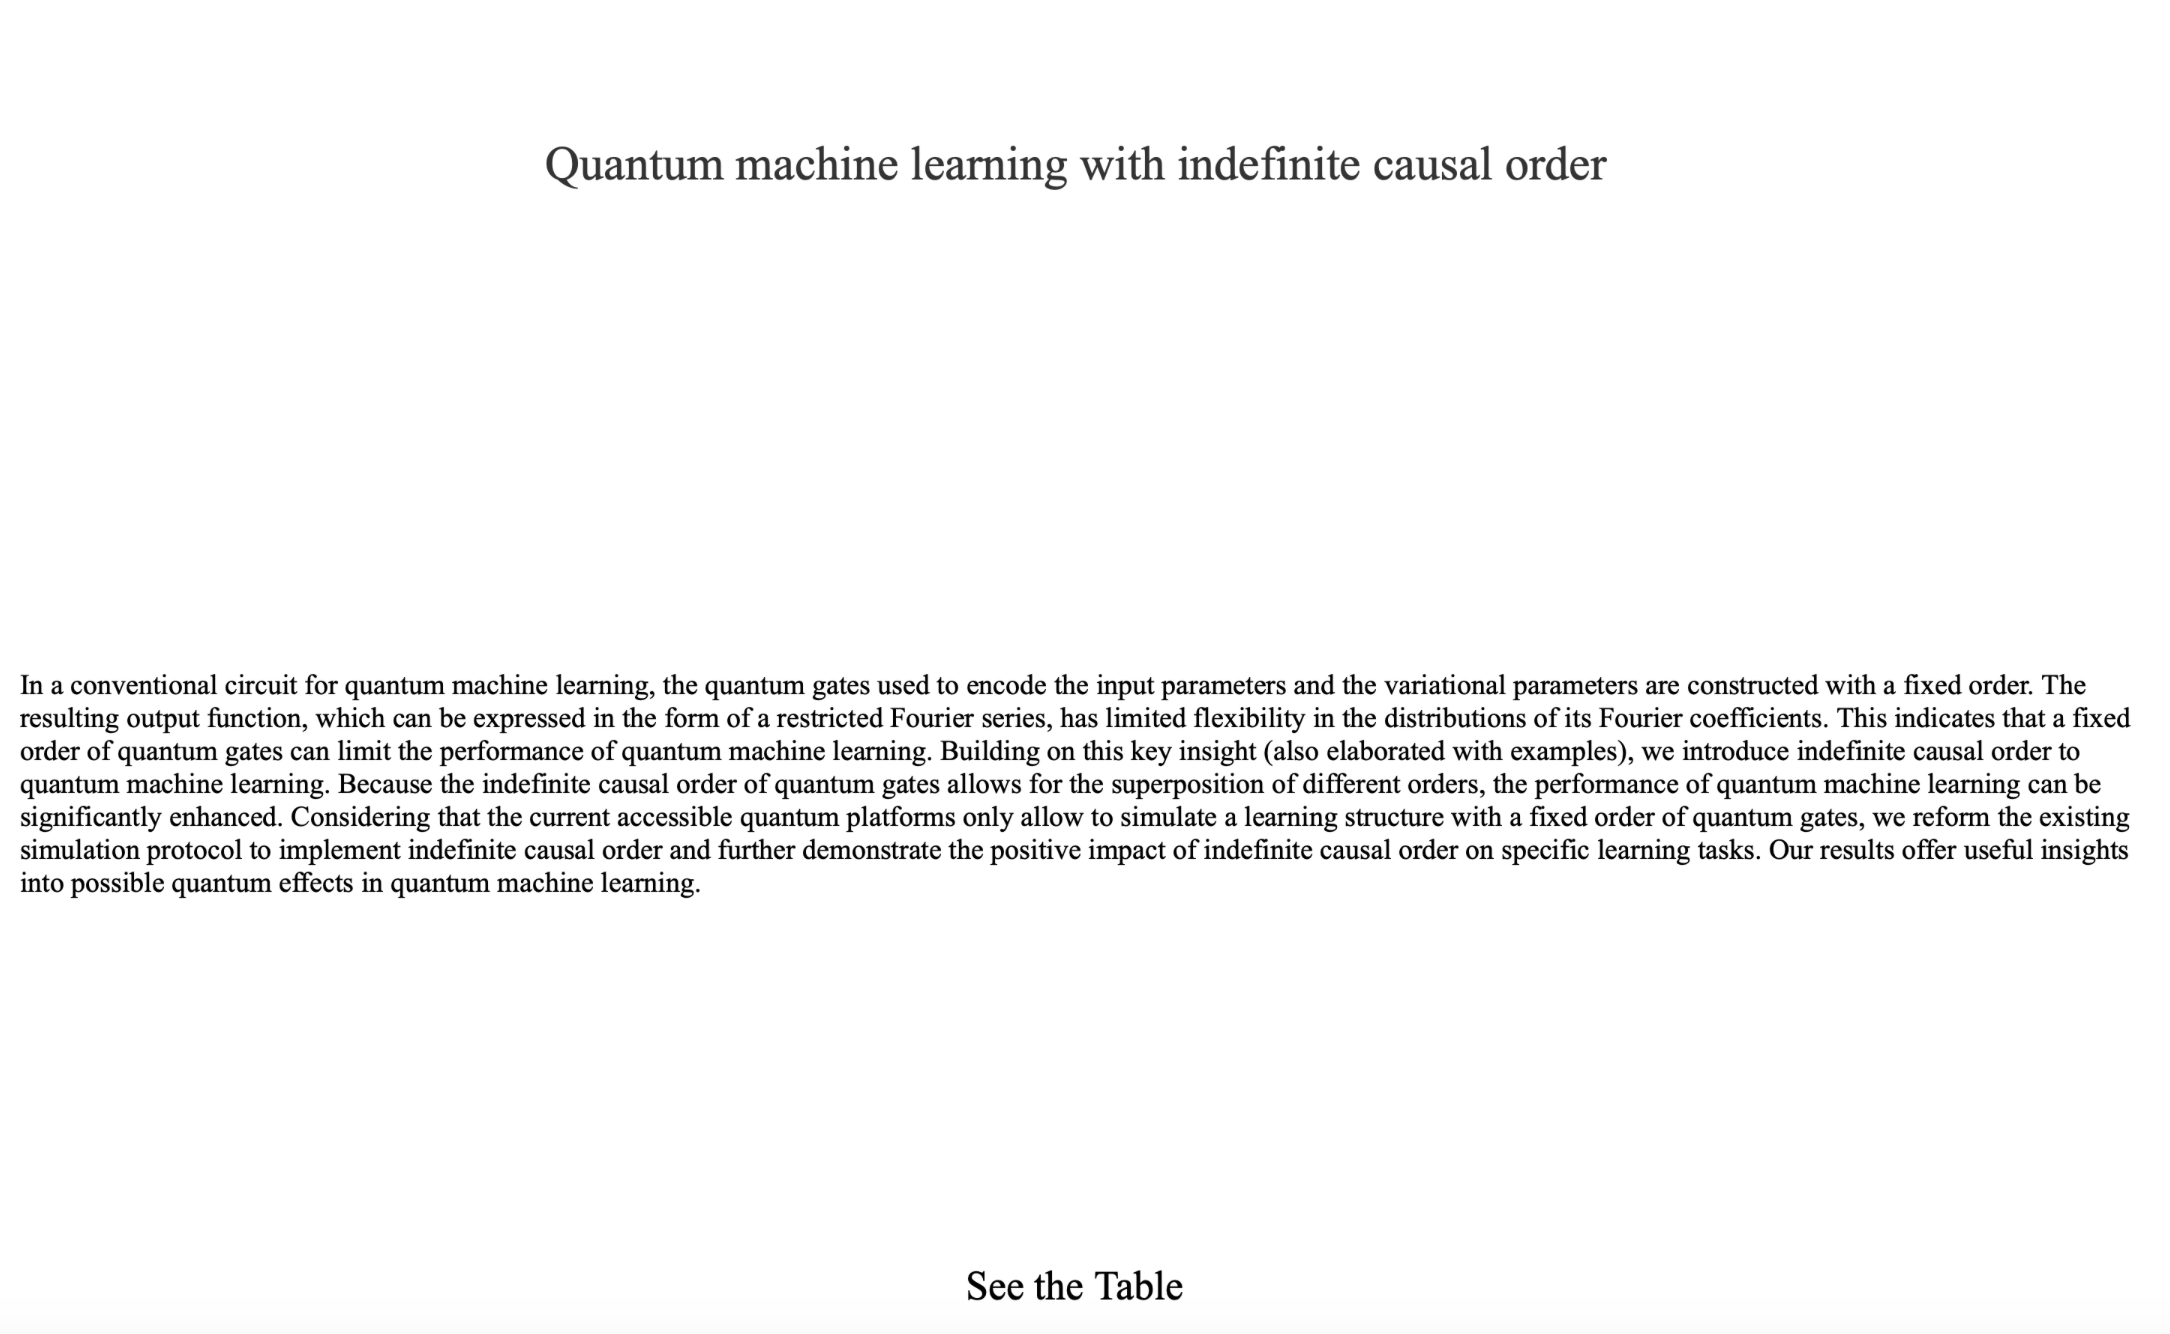

This screenshot's page, from the dashboard's own definition file:
{"tool":"tableau","page":{"name":"(2)Article + Abstract ","canvas":[1440,990],"ordinal":2},"visuals":[{"type":"worksheet","title":"(2) Article: Title","mark":"Automatic","box":[8,8,1424,202.5]},{"type":"worksheet","title":"(2) Article: Abstract ","mark":"Automatic","box":[8,210.5,1424,624.9]},{"type":"worksheet","title":"(2) See the Table","mark":"Automatic","box":[8,835.5,1424,146.5]}]}

Visuals, with their boxes on the page's 1440x990 design canvas (x1, y1, x2, y2). These are canvas units, not pixel positions in the 2170x1334 screenshot, which may show the page scaled, cropped or inside an application window:
"(2) Article: Title" worksheet: [left=8, top=8, right=1432, bottom=210]
"(2) Article: Abstract " worksheet: [left=8, top=210, right=1432, bottom=835]
"(2) See the Table" worksheet: [left=8, top=836, right=1432, bottom=982]
